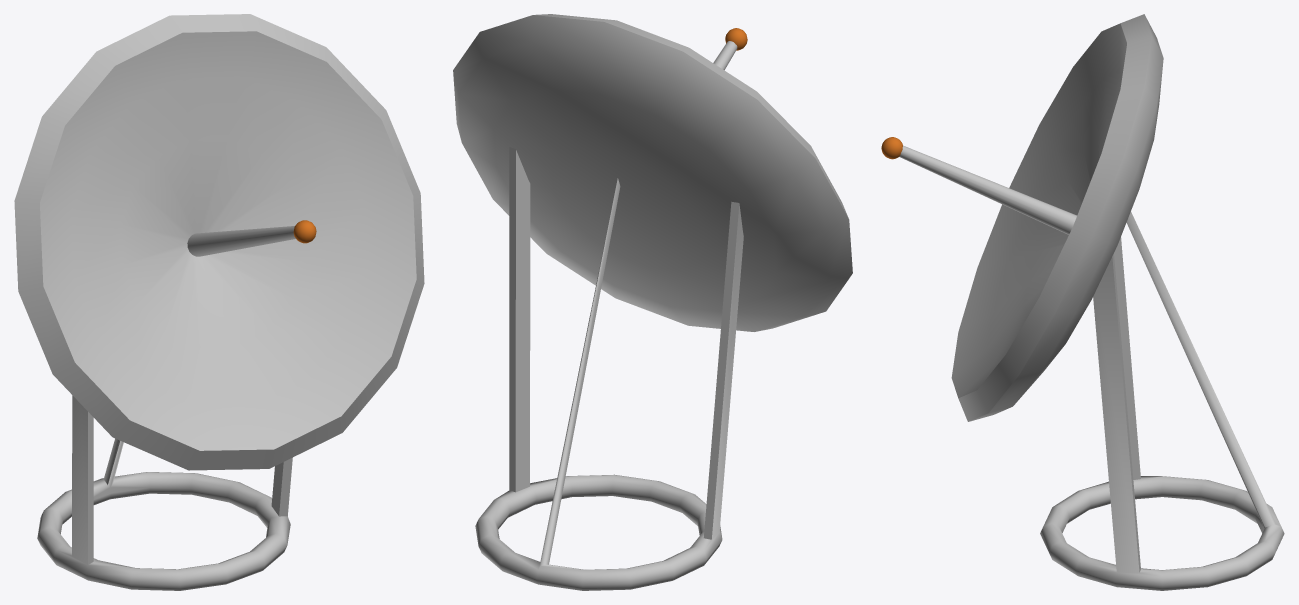
Rendered from Satellite_Dish01.obj.
The picture shows the model from 3 angles, left to right: view 1: azimuth 30°, elevation 25°; view 2: azimuth 150°, elevation 25°; view 3: azimuth 270°, elevation 25°; orthographic projection. The views are drawn at different scales.
Visible parts, largest first — view 1: sphere5; view 2: sphere5; view 3: sphere5.
Boxes of the visible parts, x1,y1,x2,y2 form: sphere5: (14, 14, 424, 590); sphere5: (453, 14, 852, 590); sphere5: (881, 14, 1284, 590).
Size of the model in its own units: 2 by 2.52 by 1.81.
